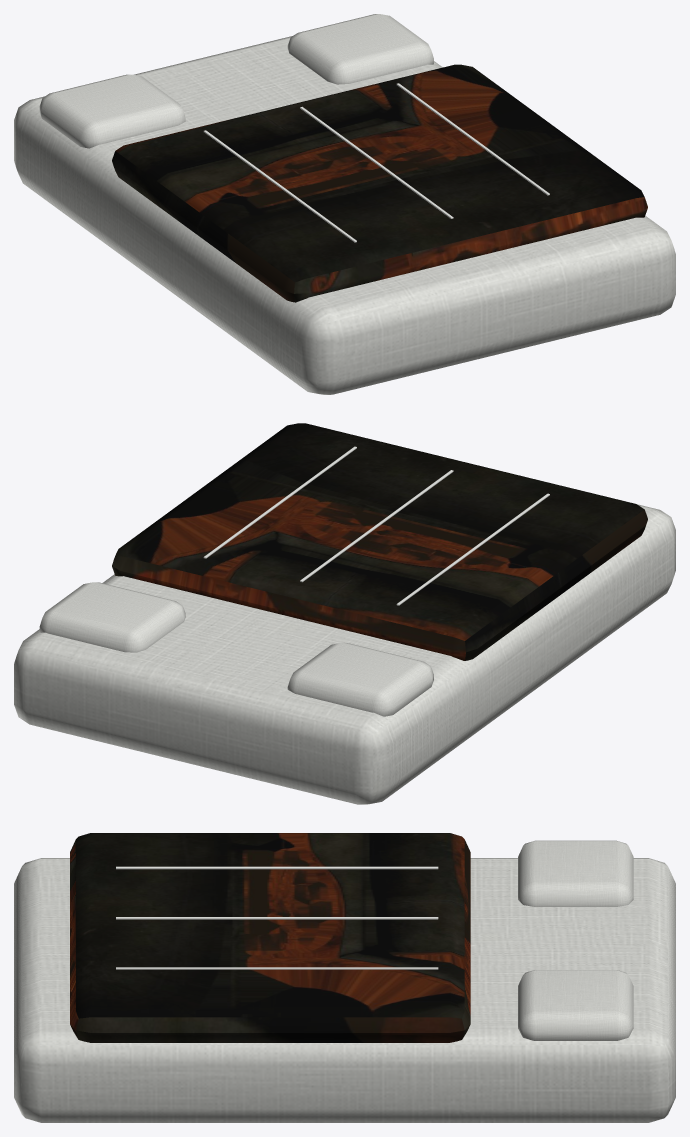
The model's file is mattress_floor_blue.glb.
3 views of the same model, one above another, from view 1: azimuth 30°, elevation 25°; view 2: azimuth 150°, elevation 25°; view 3: azimuth 270°, elevation 25° (orthographic). The views are drawn at different scales.
Visible parts, largest first — view 1: duvet, mattress, pillow, pillow.001, quilt seam, quilt seam.002, quilt seam.001; view 2: duvet, mattress, pillow, pillow.001, quilt seam, quilt seam.001, quilt seam.002; view 3: mattress, duvet, pillow.001, pillow, quilt seam, quilt seam.002, quilt seam.001.
Boxes of the visible parts, <box> form: duvet: <box>112,64,647,302</box>; mattress: <box>14,36,675,394</box>; pillow: <box>39,74,185,148</box>; pillow.001: <box>287,14,433,84</box>; quilt seam: <box>203,130,356,242</box>; quilt seam.002: <box>396,83,549,195</box>; quilt seam.001: <box>300,106,453,218</box>; duvet: <box>112,423,647,660</box>; mattress: <box>14,504,675,804</box>; pillow: <box>287,642,433,716</box>; pillow.001: <box>39,582,185,652</box>; quilt seam: <box>396,493,549,605</box>; quilt seam.001: <box>300,470,453,582</box>; quilt seam.002: <box>203,446,356,558</box>; mattress: <box>14,858,675,1122</box>; duvet: <box>70,833,470,1042</box>; pillow.001: <box>518,970,633,1040</box>; pillow: <box>518,840,633,906</box>; quilt seam: <box>116,866,438,869</box>; quilt seam.002: <box>116,967,438,969</box>; quilt seam.001: <box>116,917,438,919</box>.
Size of the model in its own units: 1.35 by 0.3875 by 1.95.
4 materials, 3 textured.
